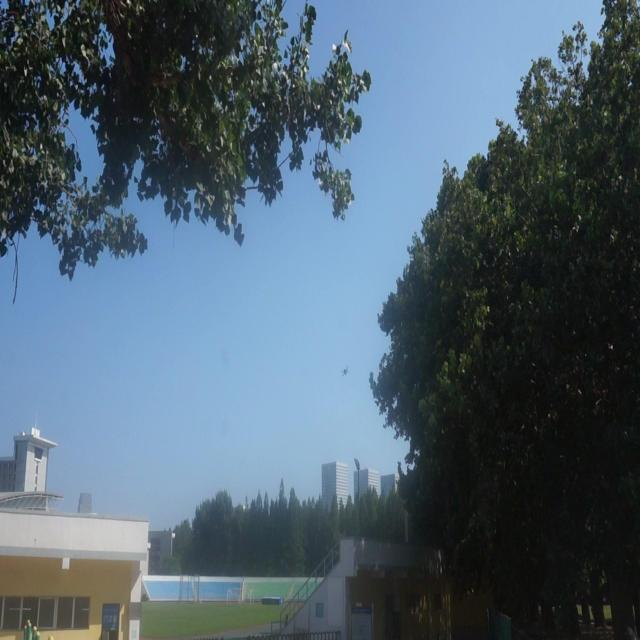drone: (339, 363, 353, 380)
